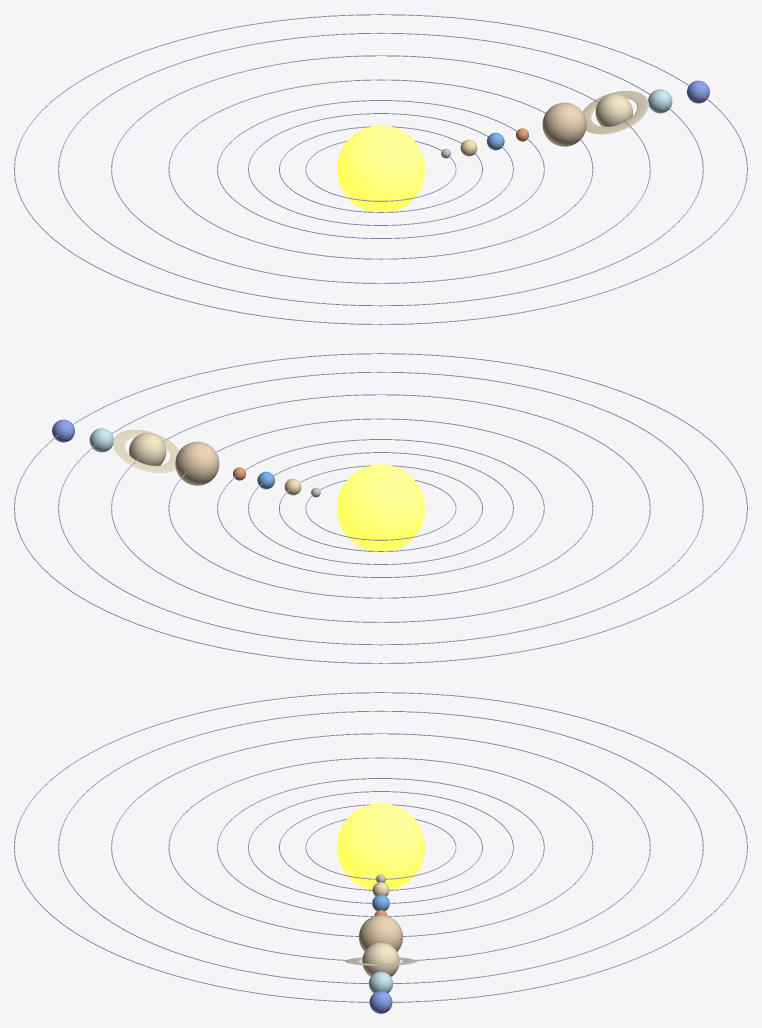
The model's file is solar-system.glb.
3 views of the same model, one above another, from view 1: azimuth 30°, elevation 25°; view 2: azimuth 150°, elevation 25°; view 3: azimuth 270°, elevation 25° (orthographic).
Visible parts, largest first — view 1: sun, orbit-16.6, orbit-14.6, orbit-12.2, jupiter, orbit-9.6, orbit-7.4, saturn-ring, saturn, orbit-6.0, orbit-4.6; view 2: sun, orbit-16.6, orbit-14.6, orbit-12.2, jupiter, orbit-9.6, orbit-7.4, saturn-ring, saturn, orbit-6.0, orbit-4.6; view 3: sun, orbit-16.6, orbit-14.6, orbit-12.2, orbit-9.6, jupiter, orbit-7.4, saturn, orbit-6.0, orbit-4.6.
Boxes of the visible parts, bbox=[...] form: sun: bbox=[337, 125, 424, 213]; orbit-16.6: bbox=[14, 14, 747, 324]; orbit-14.6: bbox=[58, 32, 703, 306]; orbit-12.2: bbox=[111, 55, 650, 283]; jupiter: bbox=[542, 102, 586, 146]; orbit-9.6: bbox=[168, 79, 593, 259]; orbit-7.4: bbox=[217, 100, 544, 238]; saturn-ring: bbox=[582, 91, 648, 134]; saturn: bbox=[595, 94, 632, 126]; orbit-6.0: bbox=[248, 113, 513, 225]; orbit-4.6: bbox=[279, 126, 482, 212]; sun: bbox=[337, 464, 424, 552]; orbit-16.6: bbox=[14, 353, 747, 663]; orbit-14.6: bbox=[58, 371, 703, 645]; orbit-12.2: bbox=[111, 394, 650, 622]; jupiter: bbox=[175, 441, 219, 485]; orbit-9.6: bbox=[168, 418, 593, 598]; orbit-7.4: bbox=[217, 439, 544, 577]; saturn-ring: bbox=[113, 430, 179, 473]; saturn: bbox=[129, 433, 166, 465]; orbit-6.0: bbox=[248, 452, 513, 564]; orbit-4.6: bbox=[279, 465, 482, 551]; sun: bbox=[337, 803, 424, 889]; orbit-16.6: bbox=[14, 692, 747, 1002]; orbit-14.6: bbox=[58, 710, 703, 983]; orbit-12.2: bbox=[111, 733, 650, 961]; orbit-9.6: bbox=[168, 757, 593, 936]; jupiter: bbox=[359, 915, 402, 951]; orbit-7.4: bbox=[217, 778, 544, 916]; saturn: bbox=[362, 942, 399, 976]; orbit-6.0: bbox=[248, 791, 513, 903]; orbit-4.6: bbox=[279, 804, 482, 890].
Size of the model in its own units: 33.74 by 4 by 33.24.
